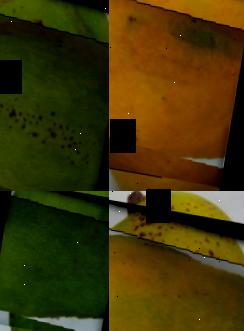PartiallyRipe: (109, 192, 244, 331)
Ripe: (109, 0, 244, 188)
Unripe: (0, 0, 109, 191), (0, 191, 109, 331)
